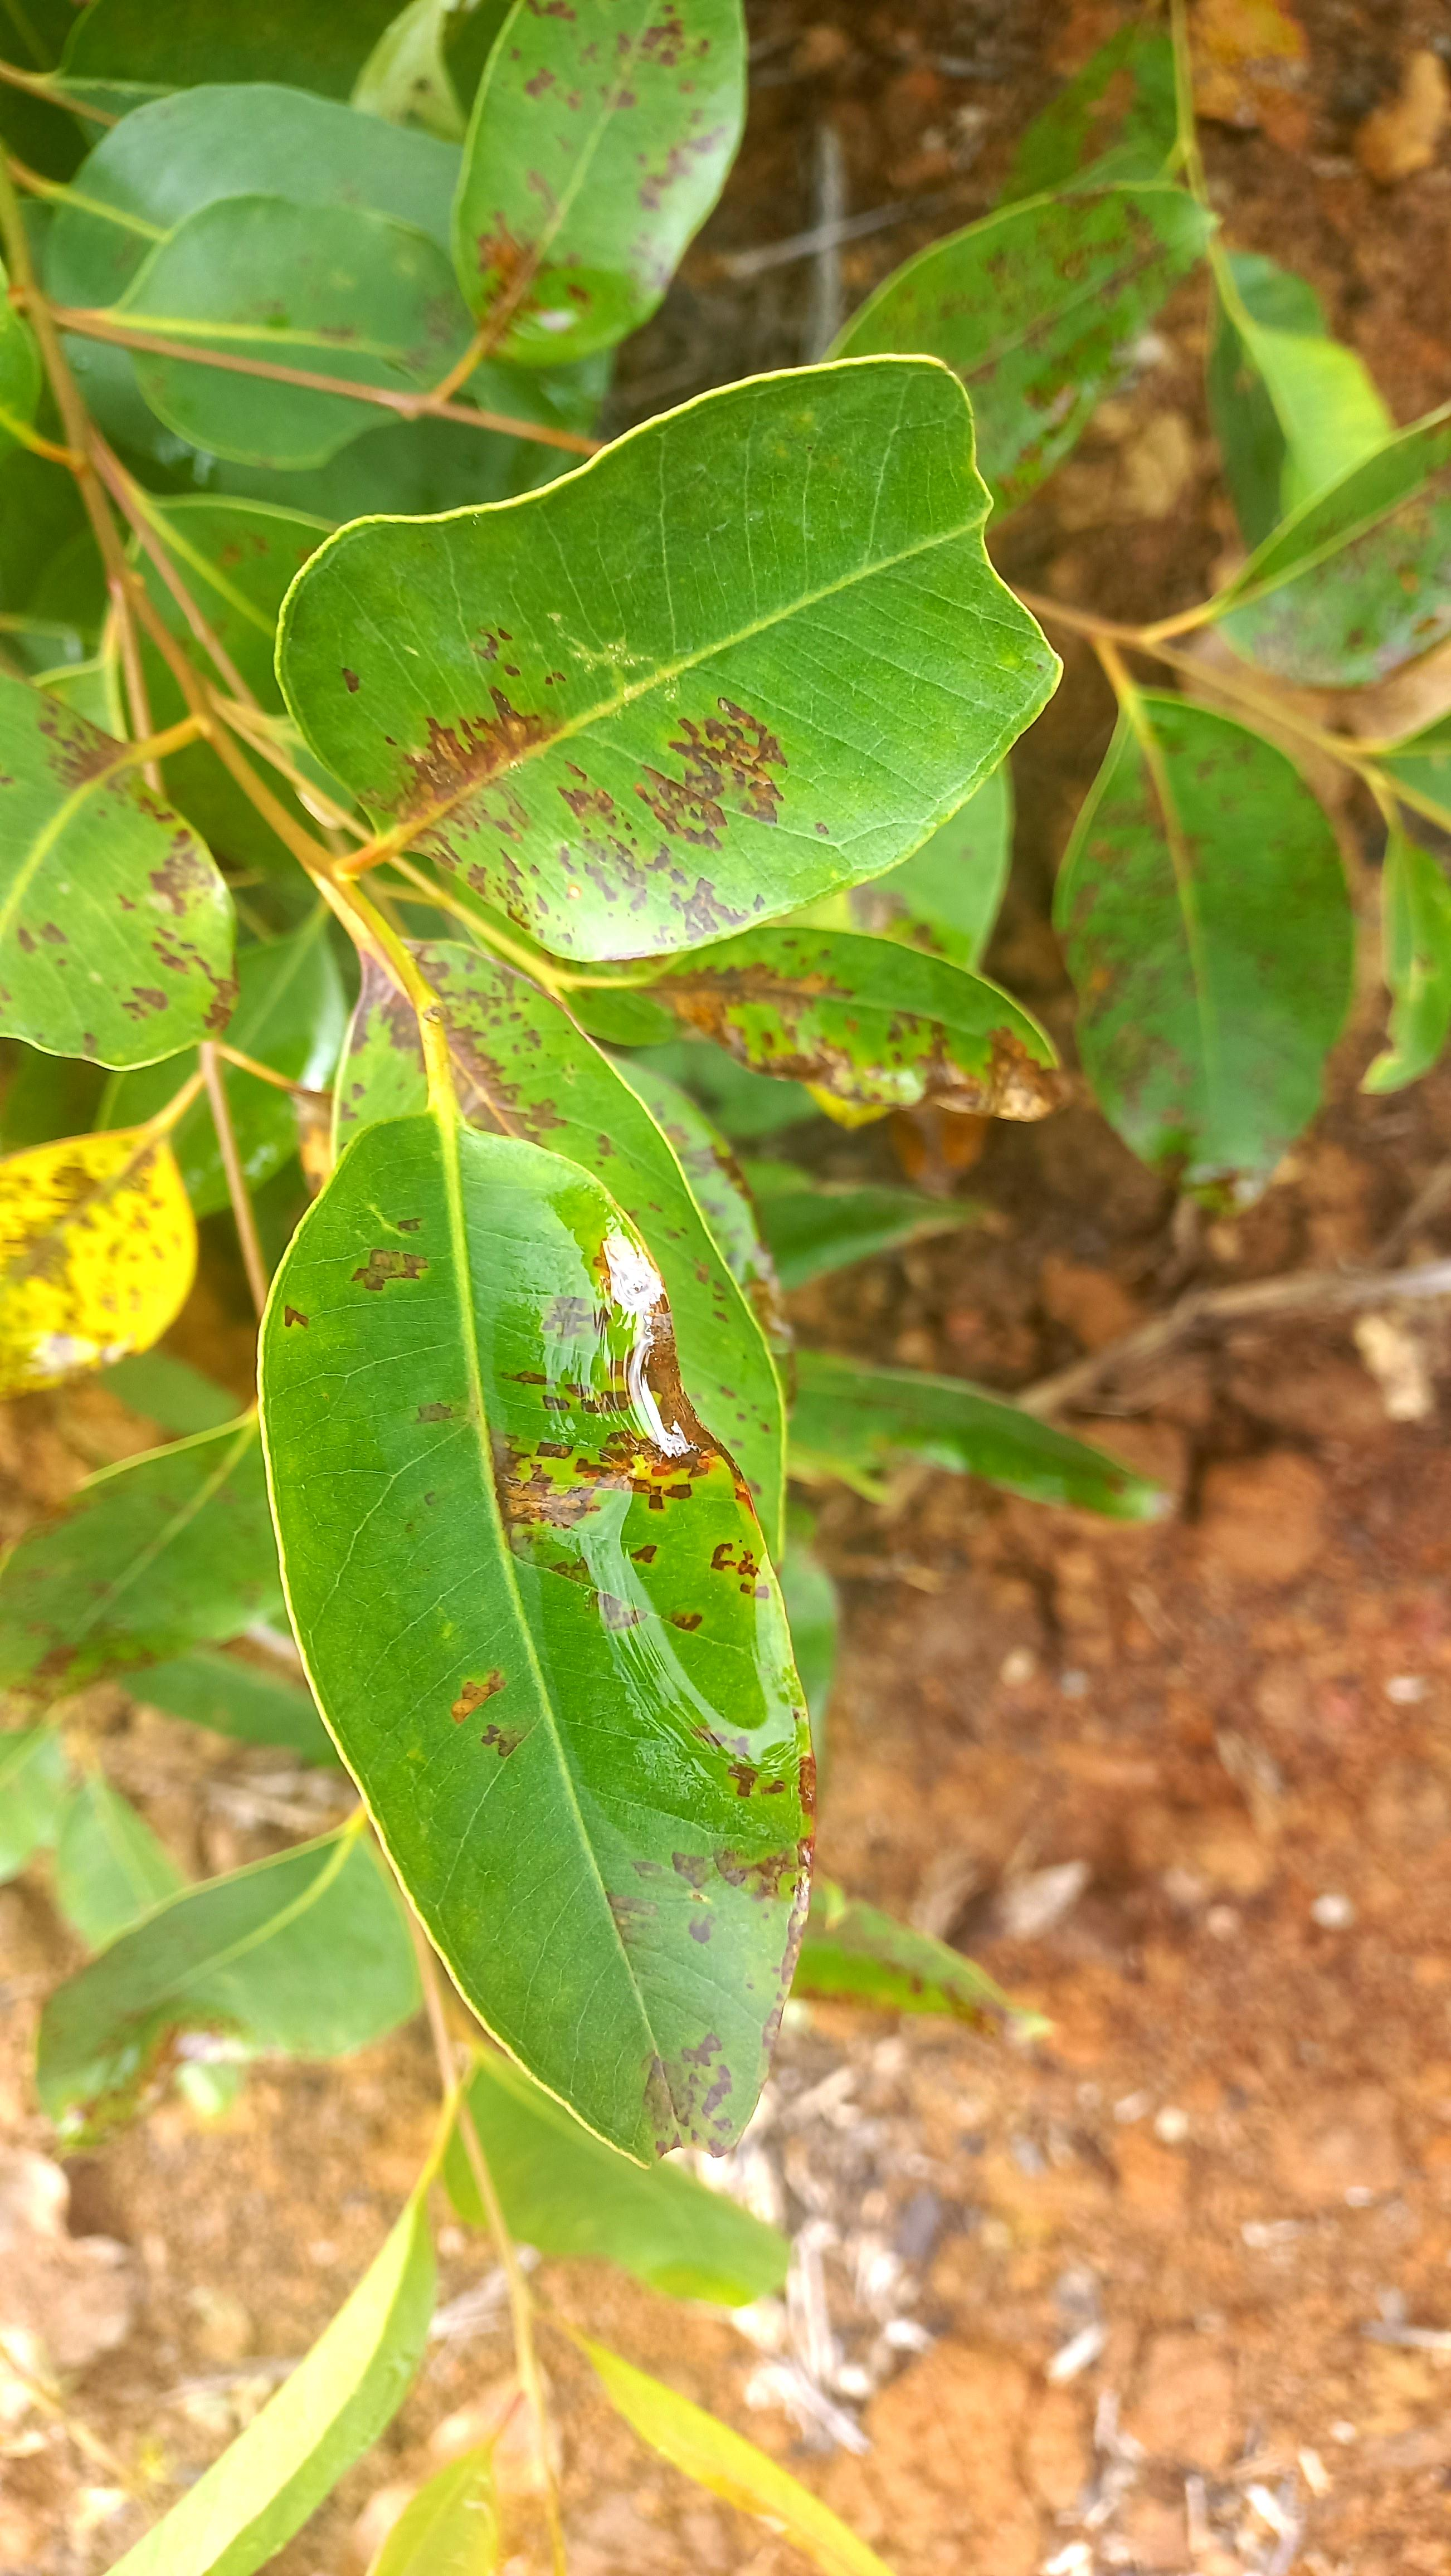Xanthomonas: (352, 658, 810, 952)
